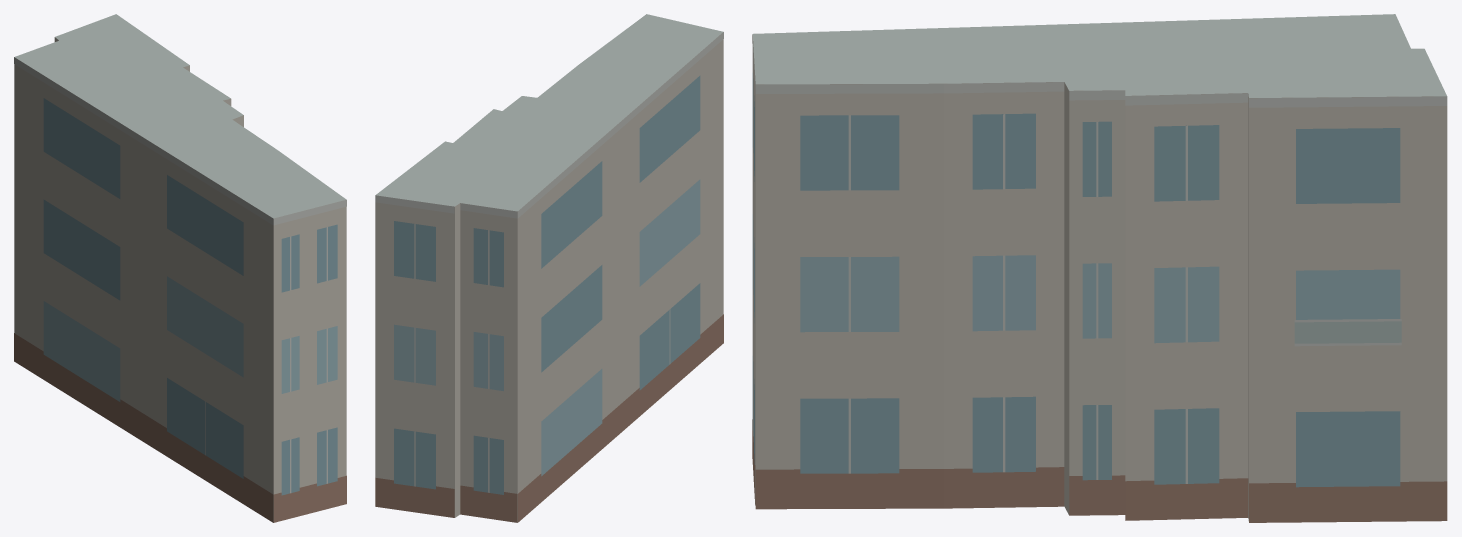
File: survey-upis-32480252.glb
The picture shows the model from 3 angles, left to right: view 1: azimuth 30°, elevation 25°; view 2: azimuth 150°, elevation 25°; view 3: azimuth 270°, elevation 25°; orthographic projection. The views are drawn at different scales.
Visible parts, largest first — view 1: survey-upis-32480252.tmp; view 2: survey-upis-32480252.tmp; view 3: survey-upis-32480252.tmp.
Boxes of the visible parts, bbox=[...] form: survey-upis-32480252.tmp: bbox=[14, 14, 346, 522]; survey-upis-32480252.tmp: bbox=[375, 14, 723, 522]; survey-upis-32480252.tmp: bbox=[752, 14, 1447, 522].
Bounding box in the file's own units: 4.54 × 10.65 × 15.79.
